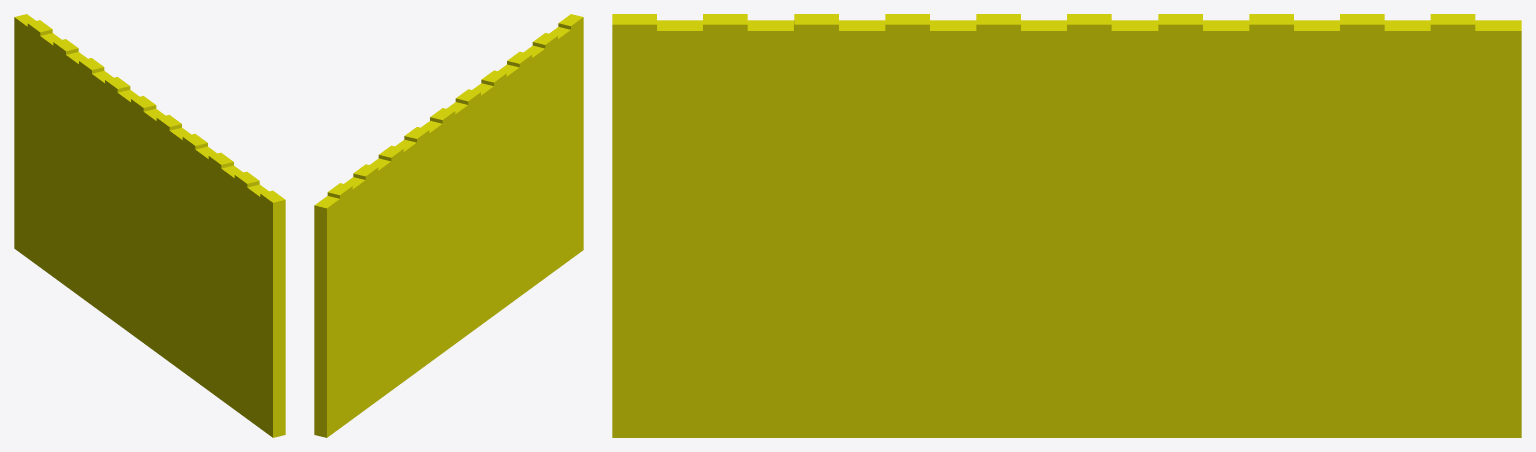
The model's file is Background_Wall_02.fbx.
3 views of the same model, side by side, from view 1: azimuth 30°, elevation 25°; view 2: azimuth 150°, elevation 25°; view 3: azimuth 270°, elevation 25° (orthographic). The views are drawn at different scales.
Visible parts, largest first — view 1: Background_Wall_02; view 2: Background_Wall_02; view 3: Background_Wall_02.
Boxes of the visible parts, left/top/right/bottom form: Background_Wall_02: left=14, top=14, right=285, bottom=437; Background_Wall_02: left=314, top=14, right=583, bottom=437; Background_Wall_02: left=612, top=14, right=1521, bottom=437.
Size of the model in its own units: 197 by 3523 by 7029.
